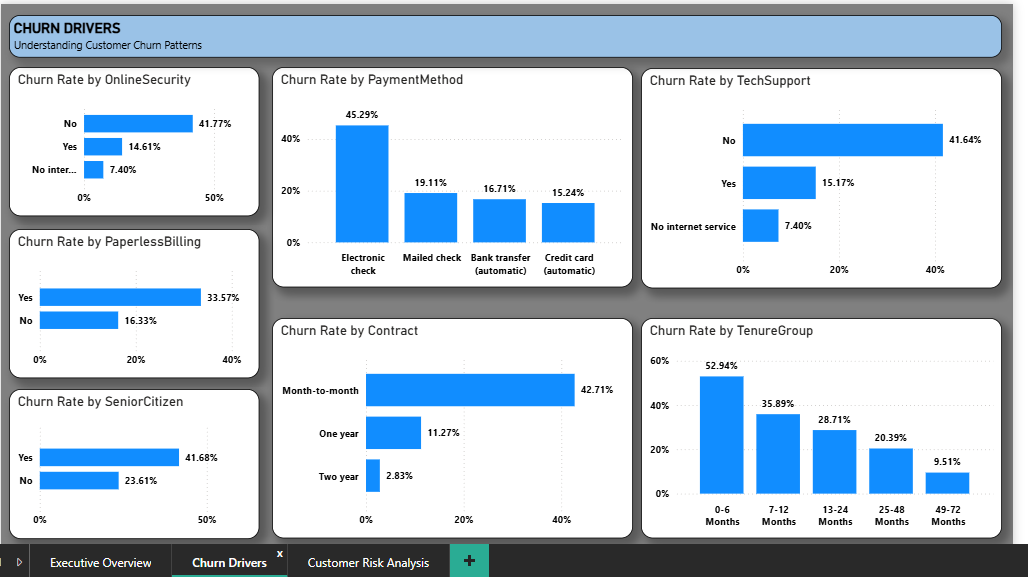

The dashboard page shown, as its layout file describes it:
{"tool":"powerbi","page":{"name":"Churn Drivers","canvas":[1280,720],"ordinal":1},"visuals":[{"type":"clusteredColumnChart","fields":{"Category":["Cleaned_Data.PaymentMethod"],"Y":["Cleaned_Data.Churn Rate"]},"box":[343.6,79.2,457,279],"z":0},{"type":"clusteredBarChart","fields":{"Category":["Cleaned_Data.TechSupport"],"Y":["Cleaned_Data.Churn Rate"]},"box":[809.6,80.7,457,279],"z":1000},{"type":"clusteredBarChart","fields":{"Category":["Cleaned_Data.OnlineSecurity"],"Y":["Cleaned_Data.Churn Rate"]},"box":[10.5,79.2,316.7,189],"z":2000},{"type":"clusteredBarChart","fields":{"Category":["Cleaned_Data.PaperlessBilling"],"Y":["Cleaned_Data.Churn Rate"]},"box":[10.5,285.3,316.7,189],"z":3000},{"type":"clusteredBarChart","fields":{"Category":["Cleaned_Data.SeniorCitizen"],"Y":["Cleaned_Data.Churn Rate"]},"box":[10.5,487,316.7,189.7],"z":4000},{"type":"shape","title":"CHURN DRIVERS","box":[10.4,13.4,1256.7,53.7],"z":5000},{"type":"clusteredBarChart","fields":{"Category":["Cleaned_Data.Contract"],"Y":["Cleaned_Data.Churn Rate"]},"box":[343.6,397.3,457,279],"z":6000},{"type":"clusteredColumnChart","fields":{"Category":["Cleaned_Data.TenureGroup"],"Y":["Cleaned_Data.Churn Rate"]},"box":[809.6,397.3,457.1,279.3],"z":7000}]}

Visuals, with their boxes in screenshot pixels (x1, y1, x2, y2):
clusteredColumnChart - Cleaned_Data.PaymentMethod x Cleaned_Data.Churn Rate: [x1=269, y1=65, x2=631, y2=286]
clusteredBarChart - Cleaned_Data.TechSupport x Cleaned_Data.Churn Rate: [x1=639, y1=67, x2=1000, y2=288]
clusteredBarChart - Cleaned_Data.OnlineSecurity x Cleaned_Data.Churn Rate: [x1=6, y1=65, x2=256, y2=215]
clusteredBarChart - Cleaned_Data.PaperlessBilling x Cleaned_Data.Churn Rate: [x1=6, y1=229, x2=256, y2=378]
clusteredBarChart - Cleaned_Data.SeniorCitizen x Cleaned_Data.Churn Rate: [x1=6, y1=388, x2=256, y2=539]
"CHURN DRIVERS" shape: [x1=6, y1=13, x2=1001, y2=56]
clusteredBarChart - Cleaned_Data.Contract x Cleaned_Data.Churn Rate: [x1=269, y1=317, x2=631, y2=538]
clusteredColumnChart - Cleaned_Data.TenureGroup x Cleaned_Data.Churn Rate: [x1=639, y1=317, x2=1001, y2=539]
